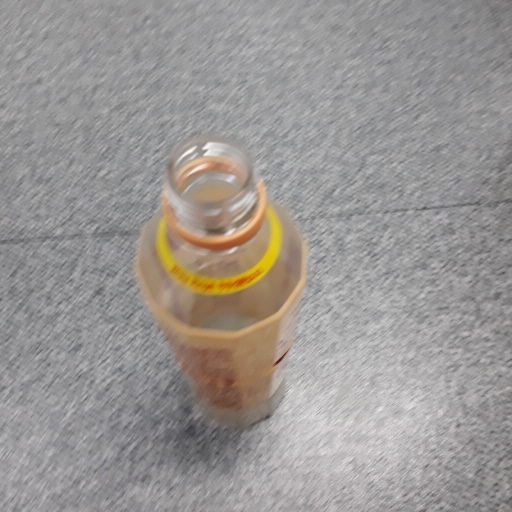Plastic_0: (133, 135, 311, 437)
